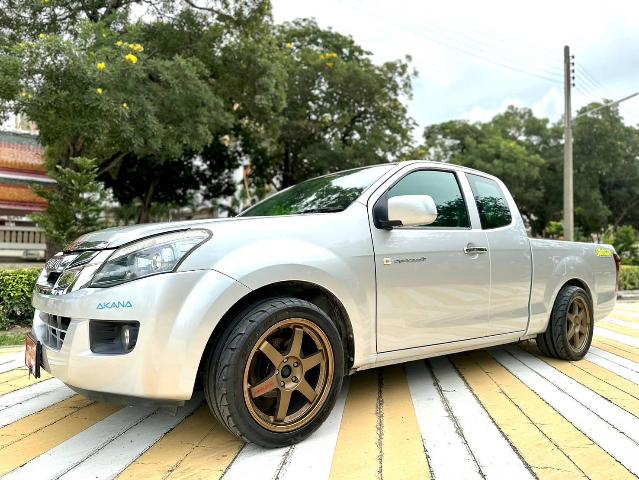pickup-truck: (16, 152, 625, 453)
